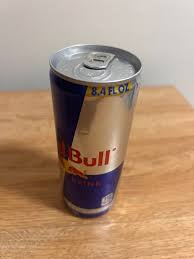chilli: (41, 41, 146, 217)
